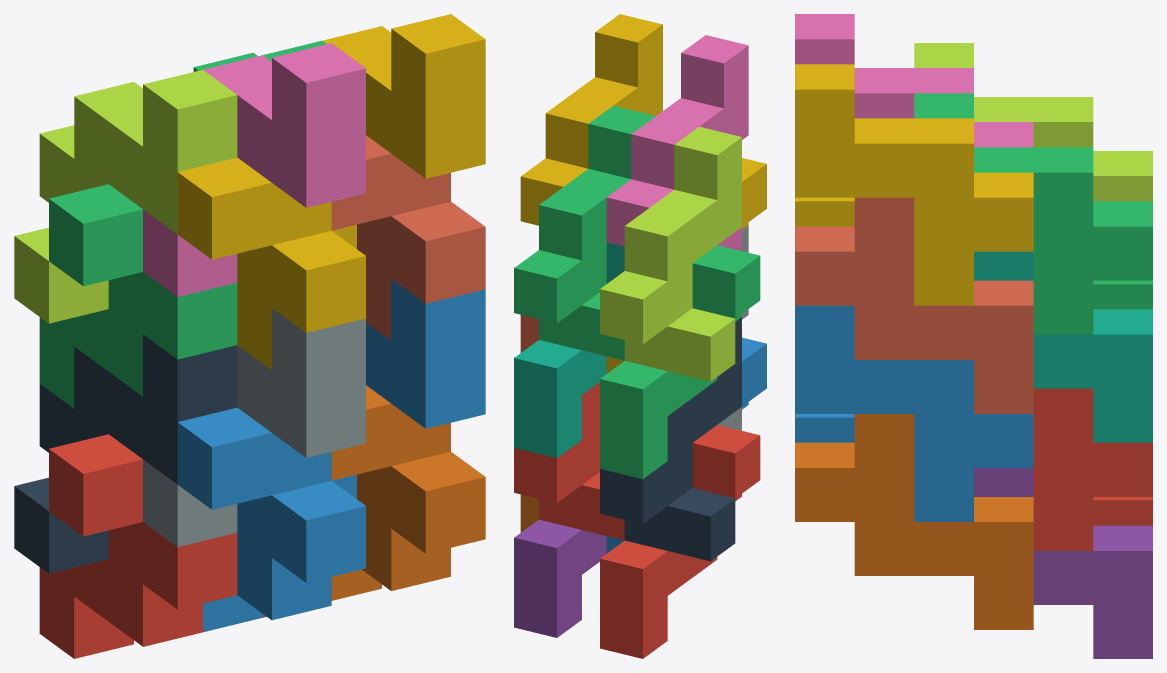
File: tiling.obj
3 views of the same model, side by side, from view 1: azimuth 30°, elevation 25°; view 2: azimuth 150°, elevation 25°; view 3: azimuth 270°, elevation 25° (orthographic). The views are drawn at different scales.
Visible parts, largest first — view 1: copy_1_domain_1, copy_1_domain_2, copy_2_domain_3, copy_2_domain_4, copy_1_domain_4, copy_1_domain_3, copy_2_domain_1, copy_1_domain_6, copy_2_domain_2, copy_2_domain_8, copy_1_domain_8, copy_2_domain_6 (+1 smaller); view 2: copy_2_domain_3, copy_2_domain_7, copy_2_domain_1, copy_1_domain_3, copy_1_domain_1, copy_2_domain_4, copy_2_domain_8, copy_1_domain_7, copy_1_domain_5, copy_2_domain_5, copy_1_domain_2, copy_1_domain_4 (+3 smaller); view 3: copy_2_domain_8, copy_1_domain_8, copy_1_domain_6, copy_2_domain_6, copy_2_domain_7, copy_2_domain_5, copy_1_domain_7, copy_1_domain_5, copy_2_domain_4, copy_2_domain_3, copy_1_domain_3, copy_1_domain_4 (+2 smaller).
Part boxes in pixels (x1=…): copy_1_domain_1: x1=39, y1=434, x2=237, y2=658; copy_1_domain_2: x1=177, y1=407, x2=365, y2=632; copy_2_domain_3: x1=14, y1=70, x2=237, y2=323; copy_2_domain_4: x1=143, y1=43, x2=365, y2=296; copy_1_domain_4: x1=177, y1=157, x2=365, y2=369; copy_1_domain_3: x1=39, y1=184, x2=237, y2=408; copy_2_domain_1: x1=14, y1=334, x2=237, y2=573; copy_1_domain_6: x1=331, y1=385, x2=485, y2=600; copy_2_domain_2: x1=143, y1=308, x2=365, y2=546; copy_2_domain_8: x1=322, y1=14, x2=485, y2=248; copy_1_domain_8: x1=331, y1=135, x2=485, y2=340; copy_2_domain_6: x1=332, y1=279, x2=485, y2=498; copy_2_domain_3: x1=600, y1=126, x2=741, y2=381; copy_2_domain_7: x1=514, y1=105, x2=655, y2=360; copy_2_domain_1: x1=600, y1=317, x2=741, y2=561; copy_1_domain_3: x1=600, y1=245, x2=760, y2=479; copy_1_domain_1: x1=600, y1=425, x2=760, y2=658; copy_2_domain_4: x1=606, y1=35, x2=748, y2=250; copy_2_domain_8: x1=520, y1=14, x2=662, y2=225; copy_1_domain_7: x1=514, y1=242, x2=624, y2=458; copy_1_domain_5: x1=514, y1=519, x2=606, y2=637; copy_2_domain_5: x1=514, y1=382, x2=624, y2=540; copy_1_domain_2: x1=606, y1=337, x2=766, y2=553; copy_1_domain_4: x1=606, y1=158, x2=766, y2=373; copy_2_domain_8: x1=795, y1=64, x2=1033, y2=305; copy_1_domain_8: x1=795, y1=197, x2=1033, y2=413; copy_1_domain_6: x1=795, y1=414, x2=1033, y2=629; copy_2_domain_6: x1=795, y1=305, x2=1033, y2=521; copy_2_domain_7: x1=914, y1=93, x2=1152, y2=334; copy_2_domain_5: x1=1033, y1=388, x2=1152, y2=550; copy_1_domain_7: x1=974, y1=251, x2=1152, y2=442; copy_1_domain_5: x1=974, y1=468, x2=1152, y2=658; copy_2_domain_4: x1=795, y1=14, x2=1033, y2=147; copy_2_domain_3: x1=914, y1=43, x2=1152, y2=201; copy_1_domain_3: x1=1093, y1=280, x2=1152, y2=309; copy_1_domain_4: x1=795, y1=197, x2=854, y2=226.
Size of the model in its own units: 5 by 11 by 6.
